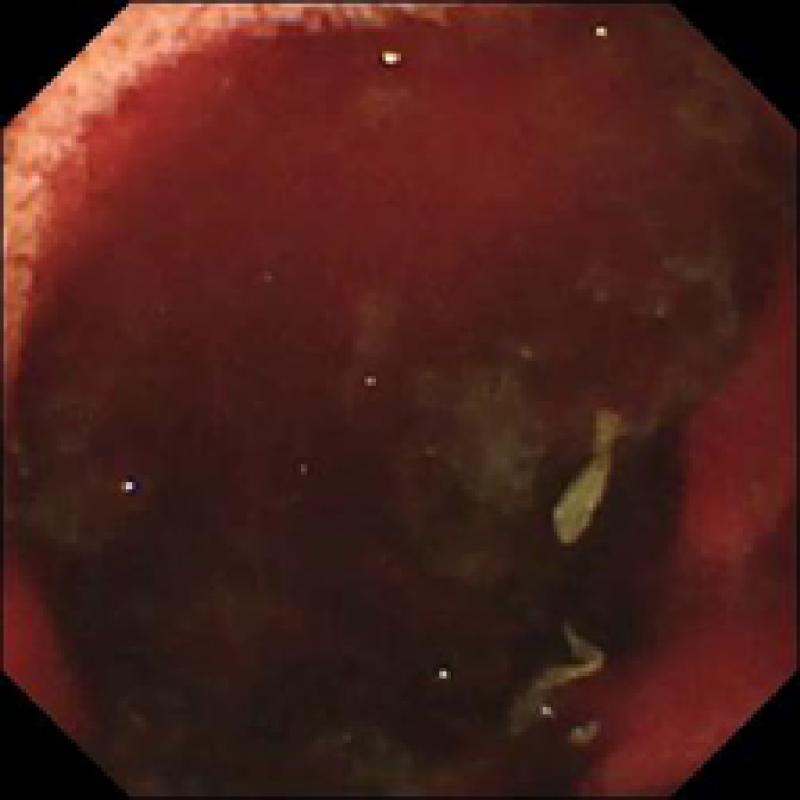bleeding: (7, 3, 800, 786)
